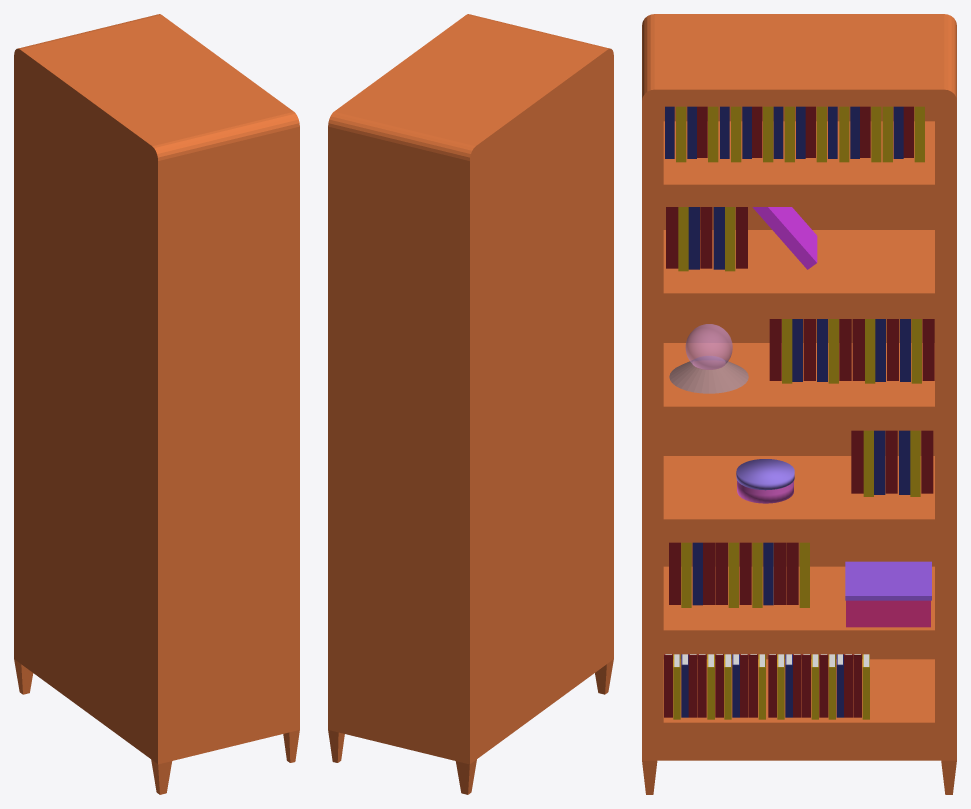
File: Bookshelf.fbx
The picture shows the model from 3 angles, left to right: view 1: azimuth 30°, elevation 25°; view 2: azimuth 150°, elevation 25°; view 3: azimuth 270°, elevation 25°; orthographic projection. The views are drawn at different scales.
Visible parts, largest first — view 1: Shelf; view 2: Shelf; view 3: Shelf.
Boxes of the visible parts, x1,y1,x2,y2 form: Shelf: (14, 14, 299, 794); Shelf: (328, 14, 613, 794); Shelf: (642, 14, 956, 794).
Size of the model in its own units: 200 by 872 by 352.
